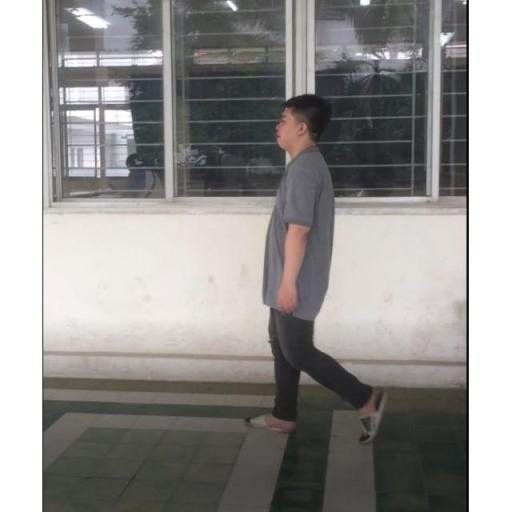Running: (240, 89, 395, 444)
